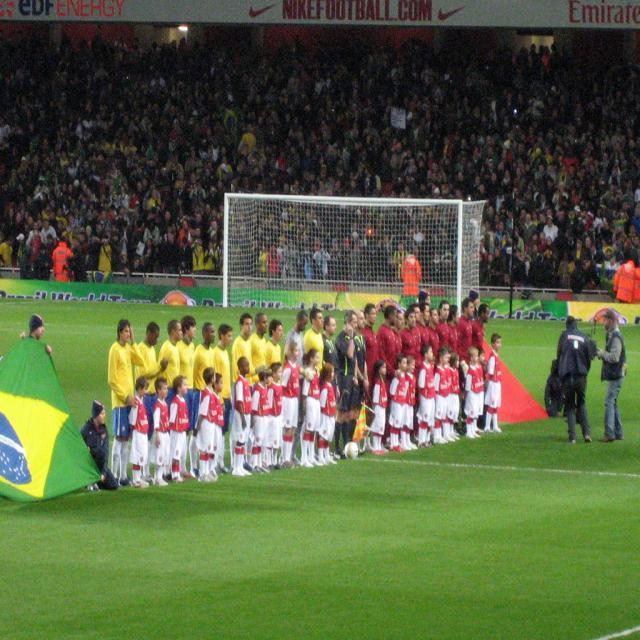football: (342, 434, 359, 461)
